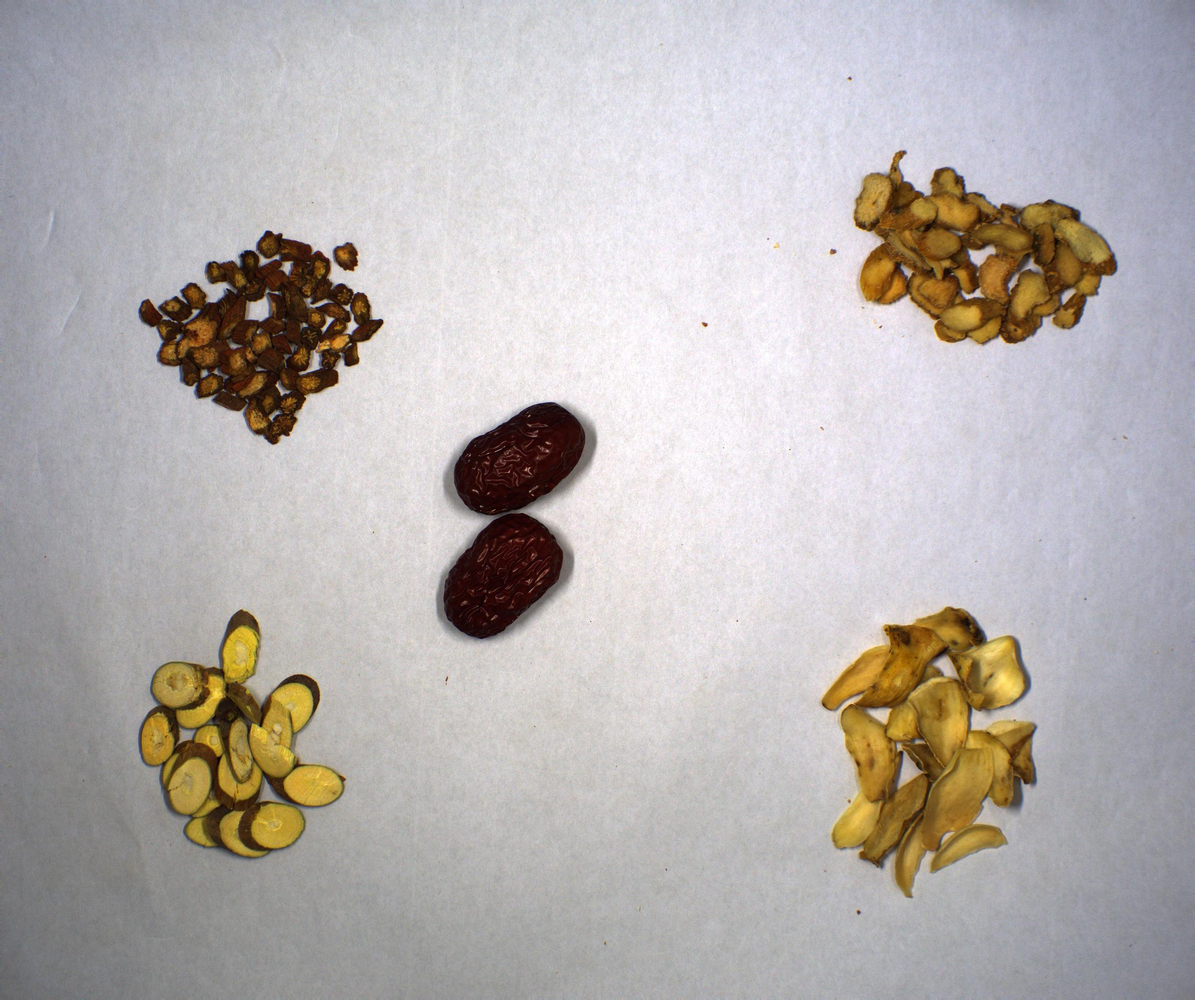baihe: (816, 601, 1049, 899)
danshen: (139, 224, 393, 458)
dazao: (423, 397, 595, 646)
sangzhi: (135, 605, 352, 859)
yuzhu: (844, 142, 1122, 347)
